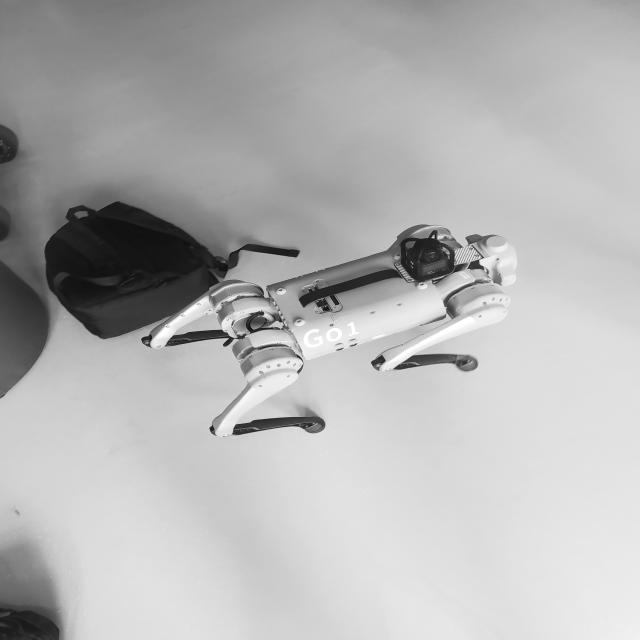unitree-go1-robot: (129, 219, 526, 454)
